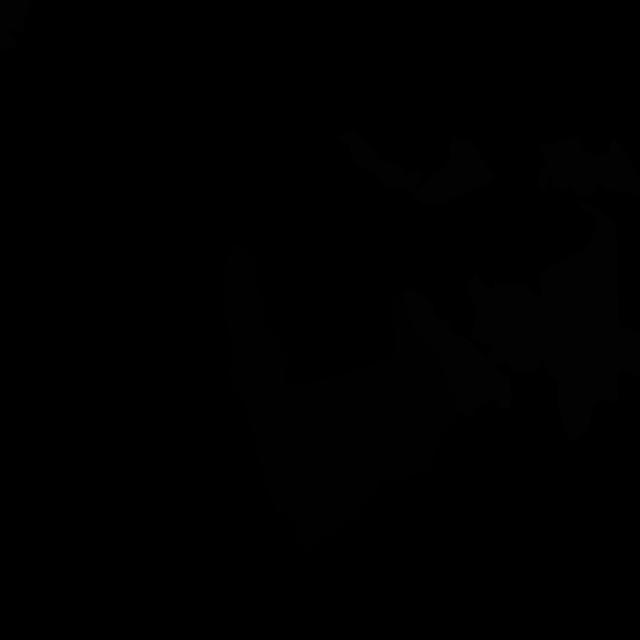cardboard: (538, 198, 640, 441), (404, 288, 512, 418), (467, 273, 558, 374), (538, 137, 640, 197), (411, 137, 496, 207), (336, 129, 422, 194), (0, 0, 33, 52)
rigid_plastic: (222, 242, 460, 550)
